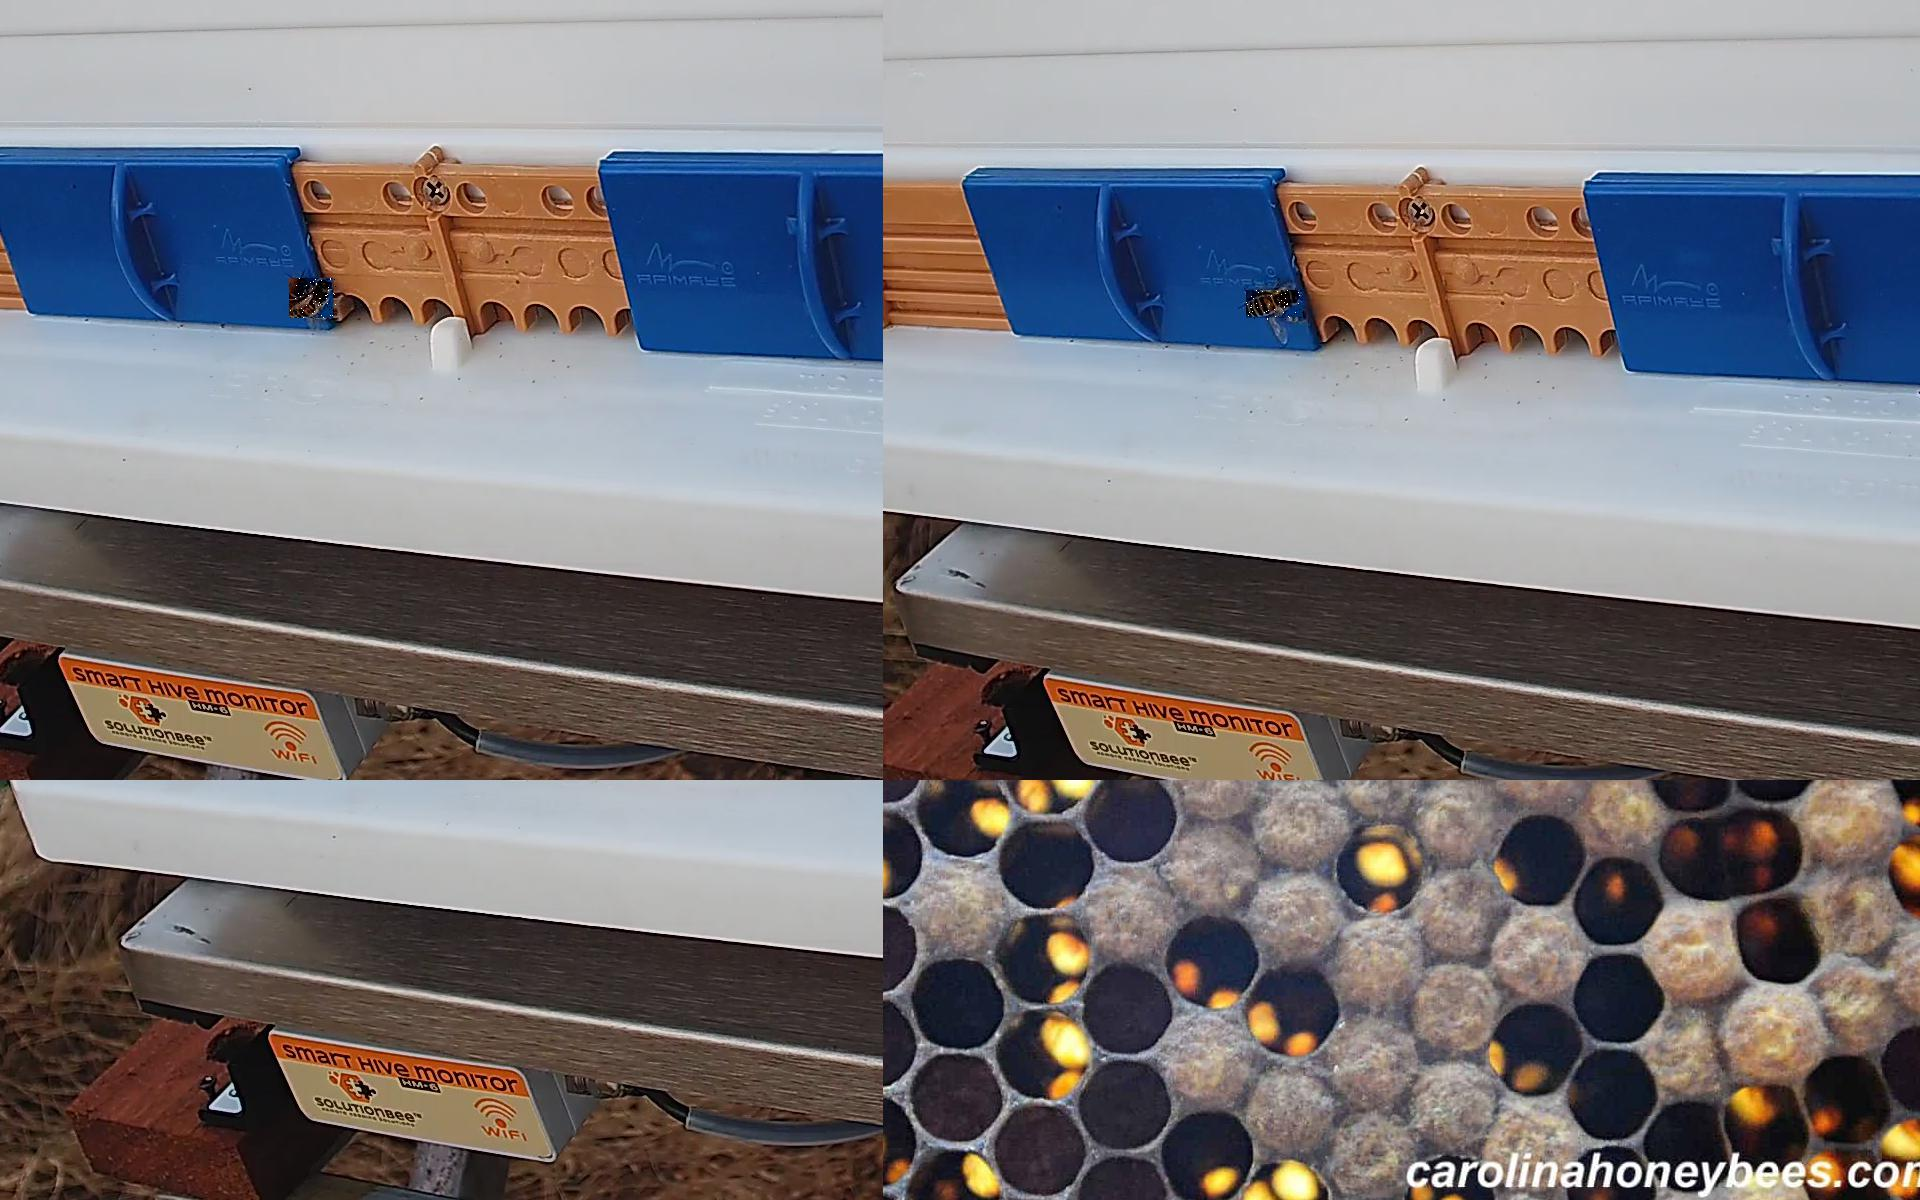bee: (290, 278, 337, 319), (1247, 290, 1303, 322)
